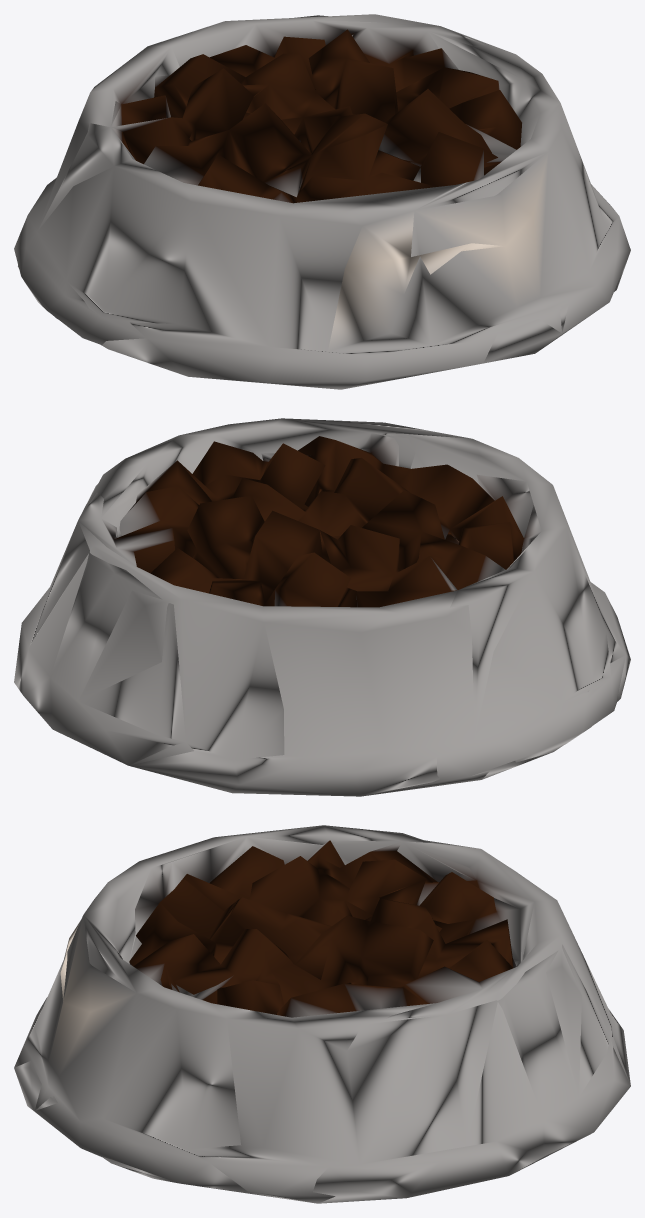
File: gen3d-dog-bowl-lod1.glb
3 renders of one model, top to bottom at view 1: azimuth 30°, elevation 25°; view 2: azimuth 150°, elevation 25°; view 3: azimuth 270°, elevation 25°, orthographic.
Visible parts, largest first — view 1: part_0; view 2: part_0; view 3: part_0.
Boxes of the visible parts, x1,y1,x2,y2 form: part_0: (14,14,630,389); part_0: (14,418,630,796); part_0: (14,825,630,1203).
Bounding box in the file's own units: 2.75 × 0.9818 × 2.76.
